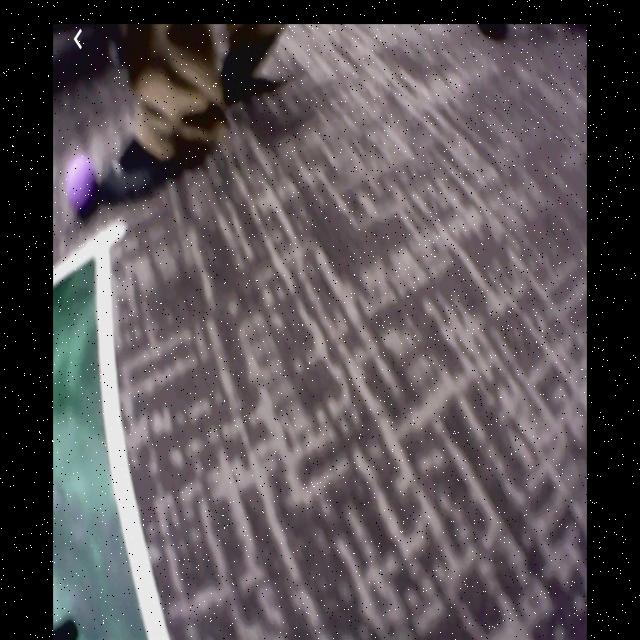ball: (68, 161, 99, 216)
